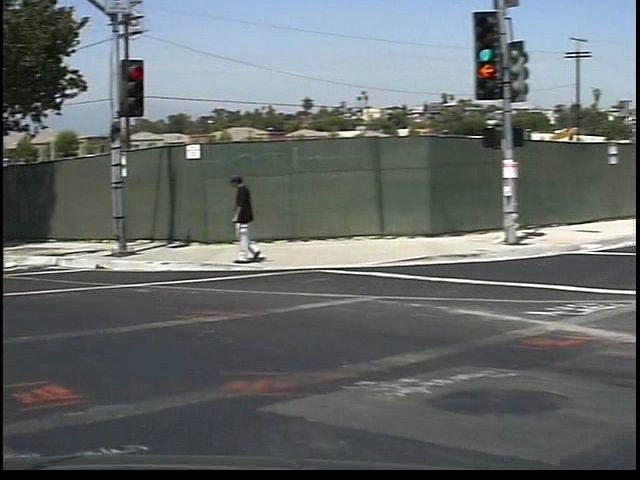person: (212, 172, 262, 283)
